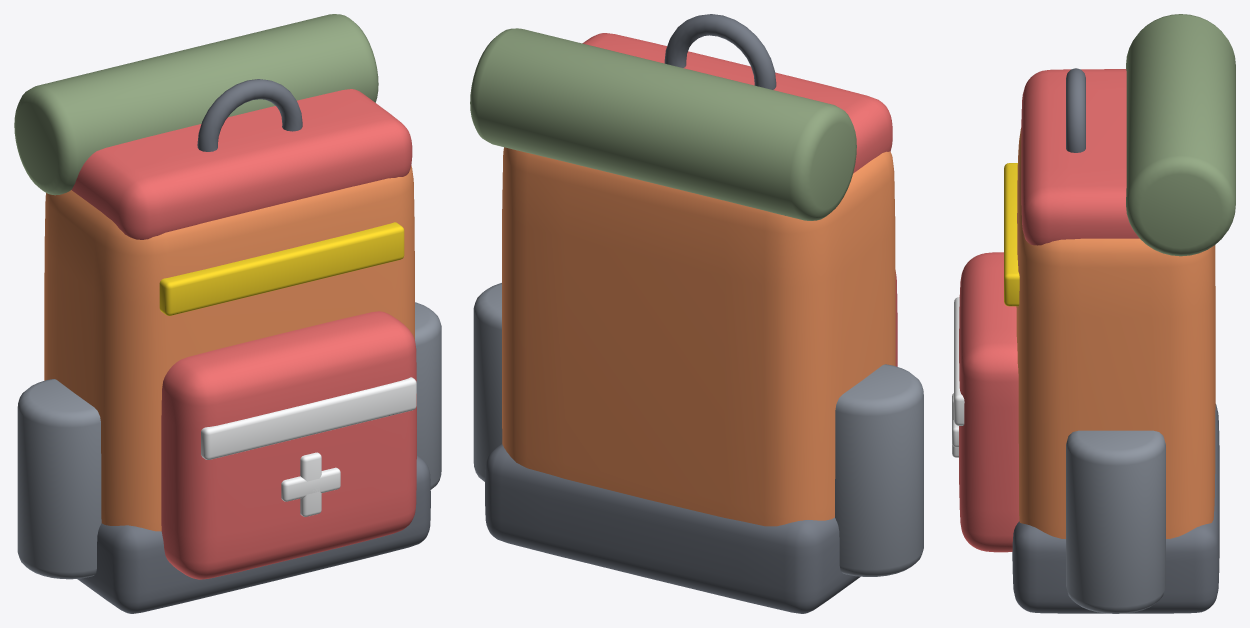
The model's file is SM_EmergencyBackpack.fbx.
3 views of the same model, side by side, from view 1: azimuth 30°, elevation 25°; view 2: azimuth 150°, elevation 25°; view 3: azimuth 270°, elevation 25° (orthographic). The views are drawn at different scales.
Parts seen in each view (by area): view 1: SM_EmergencyBackpack; view 2: SM_EmergencyBackpack; view 3: SM_EmergencyBackpack.
Part boxes in pixels (x1,y1,x2,y2): SM_EmergencyBackpack: (14,14,441,613); SM_EmergencyBackpack: (470,14,923,613); SM_EmergencyBackpack: (952,14,1235,613).
Size of the model in its own units: 58 by 65.36 by 35.5.
